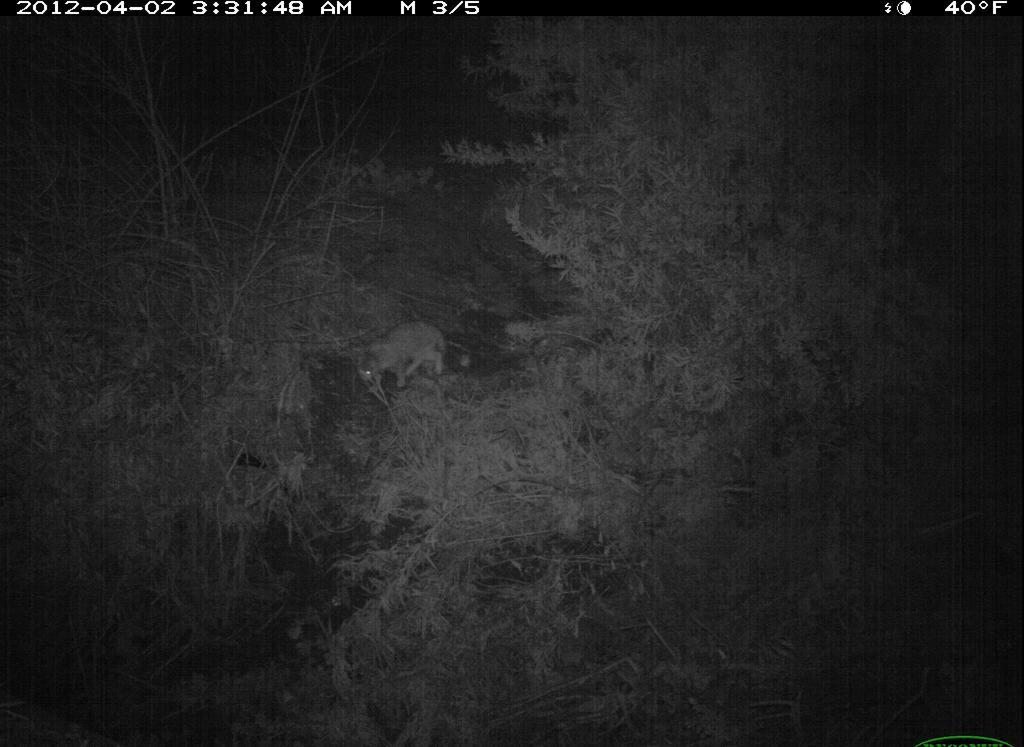cat: (349, 309, 473, 399)
